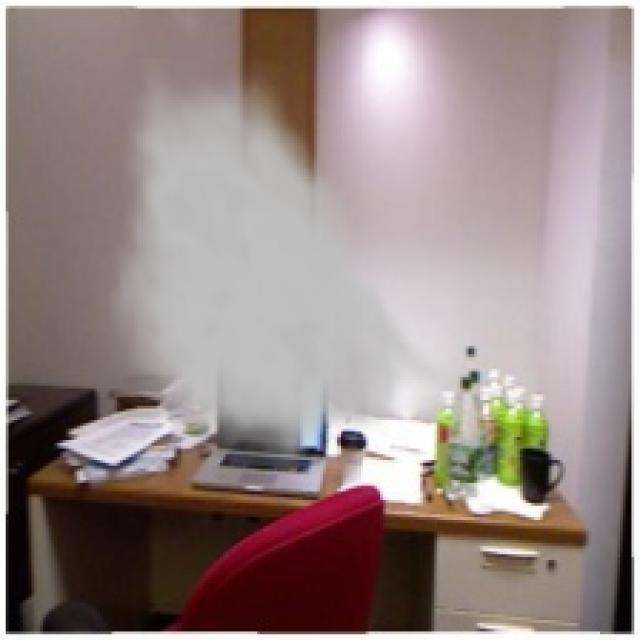Smoke: (109, 54, 472, 480)
